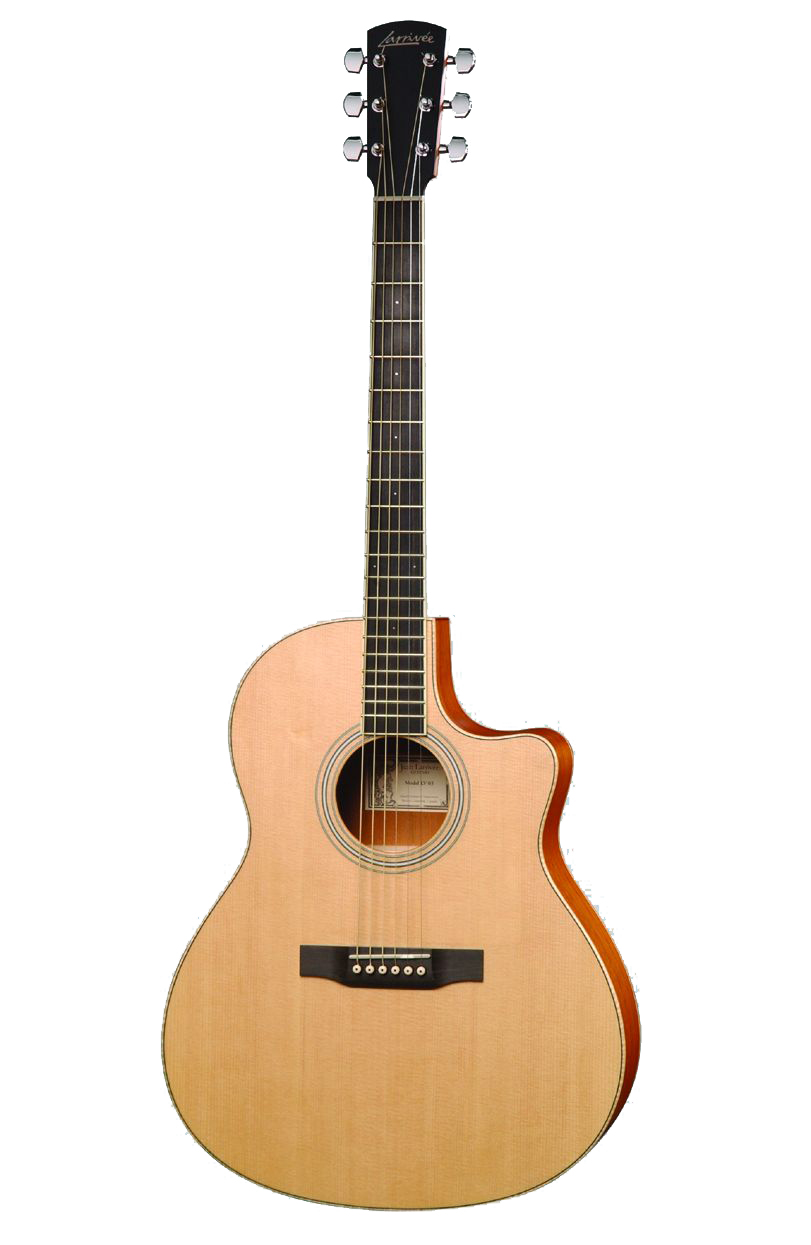guitar: (160, 19, 640, 1206)
